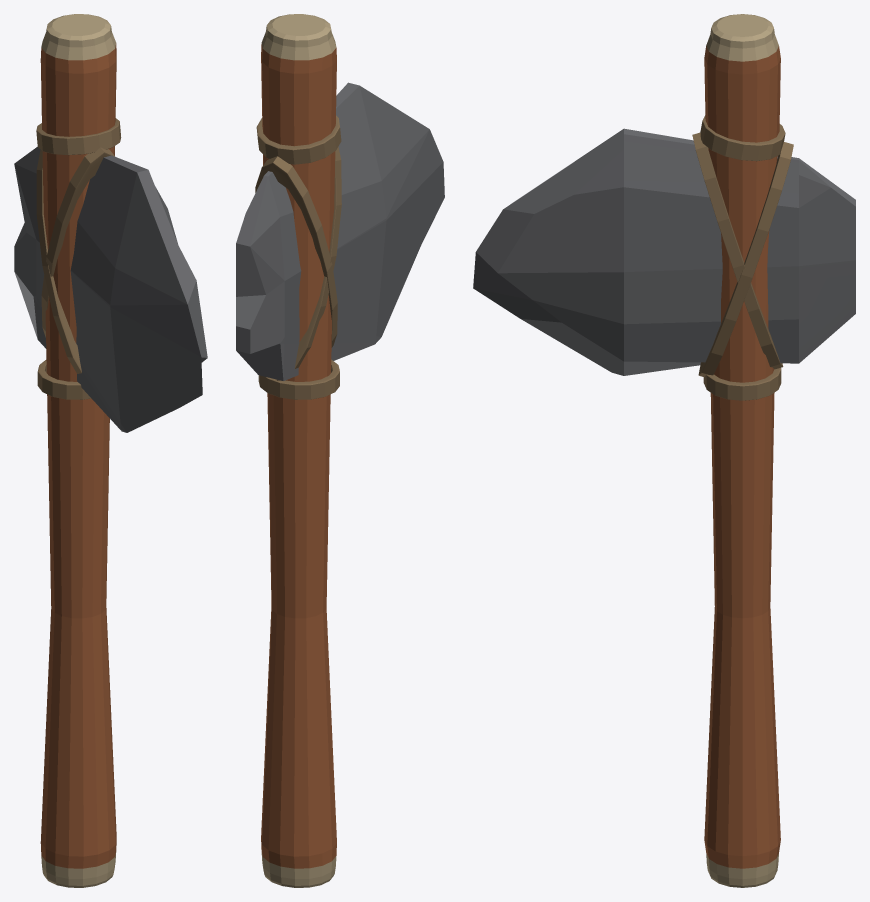
The model's file is Axe_Tribal.fbx.
The picture shows the model from 3 angles, left to right: view 1: azimuth 30°, elevation 25°; view 2: azimuth 150°, elevation 25°; view 3: azimuth 270°, elevation 25°; orthographic projection.
Visible parts, largest first — view 1: Cylinder.004; view 2: Cylinder.004; view 3: Cylinder.004.
Boxes of the visible parts, box(x1,y1,x2,y2) form: Cylinder.004: box(14, 14, 207, 887); Cylinder.004: box(236, 14, 444, 887); Cylinder.004: box(473, 14, 855, 887).
Bounding box in the file's own units: 44.8 × 497 × 203.
